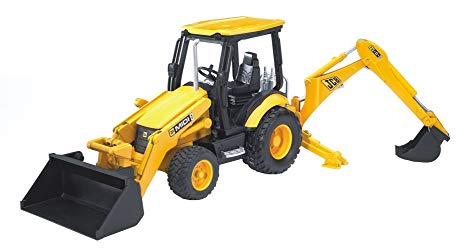backhoe: (14, 12, 448, 240)
